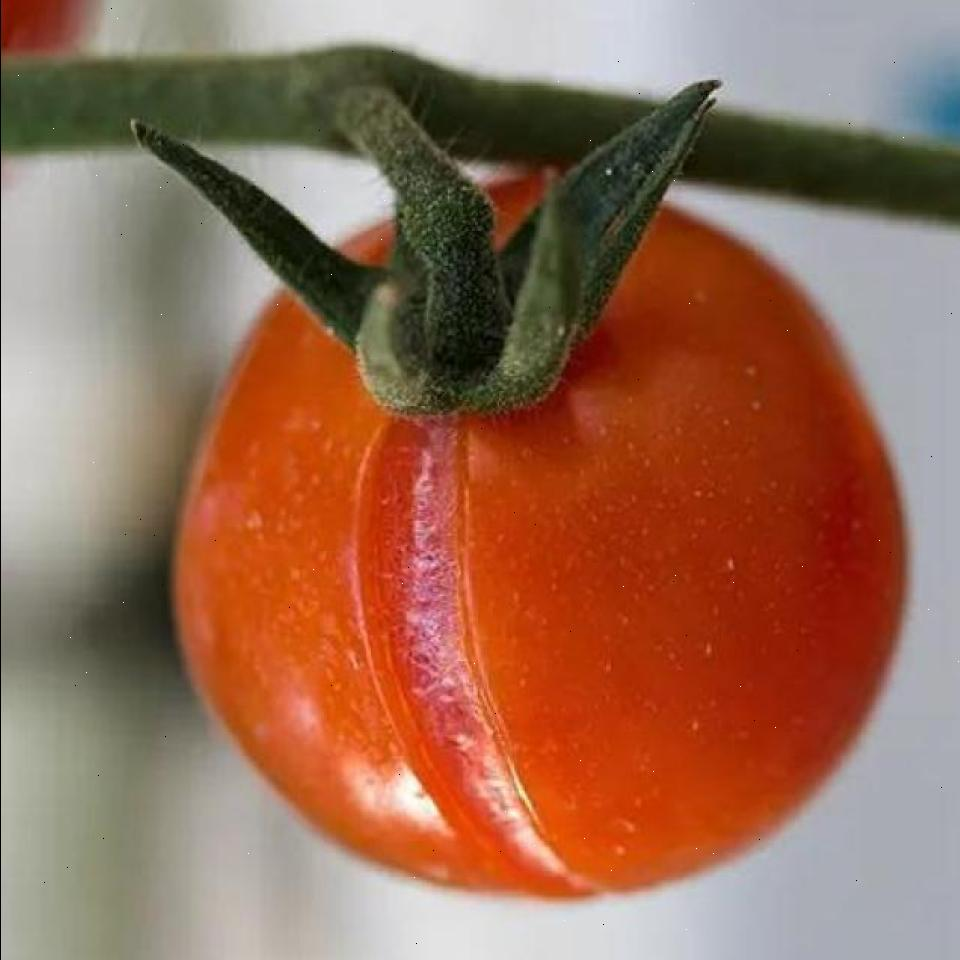Sunscald: (330, 335, 665, 898)
